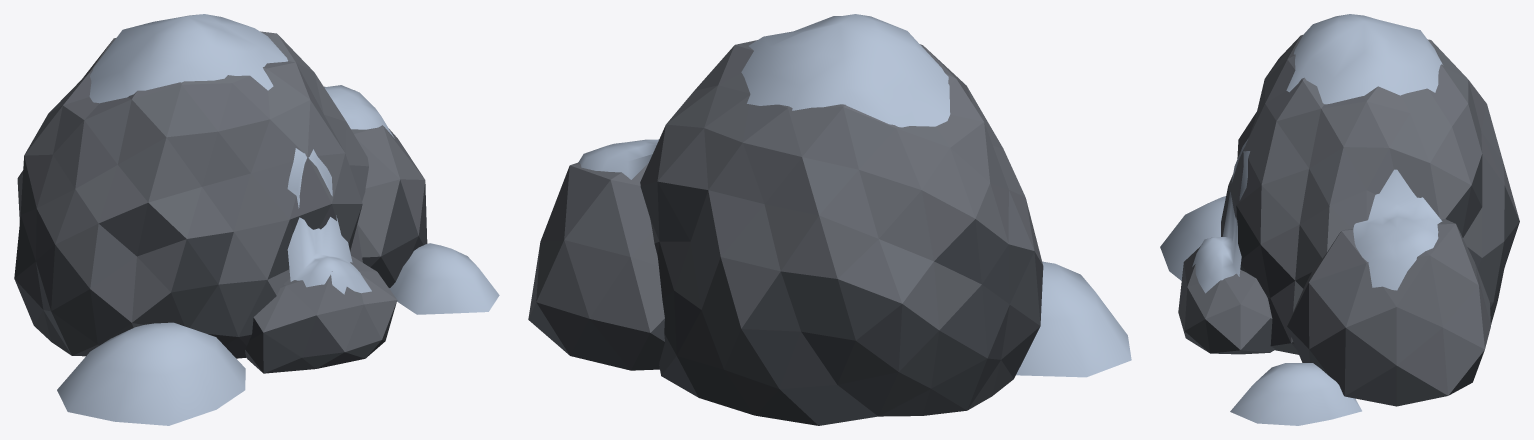
File: rock_e.glb
The picture shows the model from 3 angles, left to right: view 1: azimuth 30°, elevation 25°; view 2: azimuth 150°, elevation 25°; view 3: azimuth 270°, elevation 25°; orthographic projection. The views are drawn at different scales.
Parts seen in each view (by area): view 1: Rock; view 2: Rock; view 3: Rock.
Boxes of the visible parts, left/top/right/bottom form: Rock: left=14, top=14, right=499, bottom=425; Rock: left=528, top=14, right=1131, bottom=425; Rock: left=1160, top=14, right=1519, bottom=425.
Bounding box in the file's own units: 3.88 × 2.48 × 2.84.
